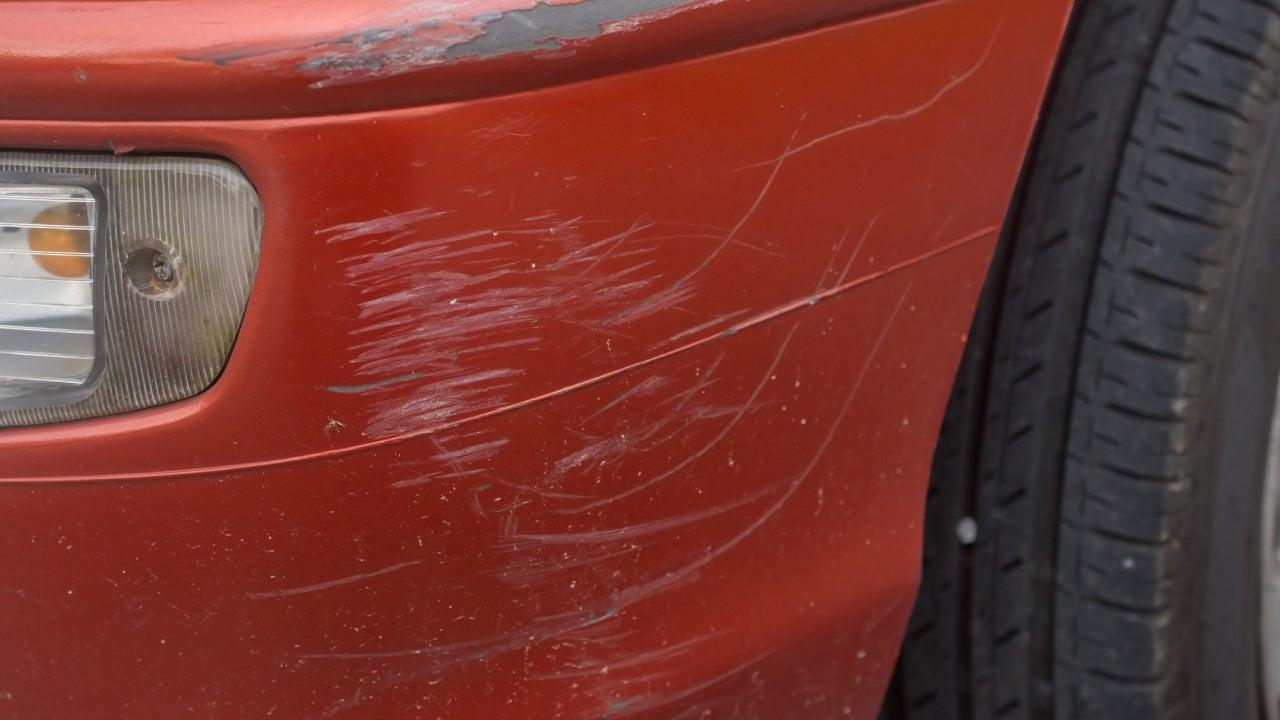scratch: (226, 2, 1022, 719), (150, 0, 762, 102)
